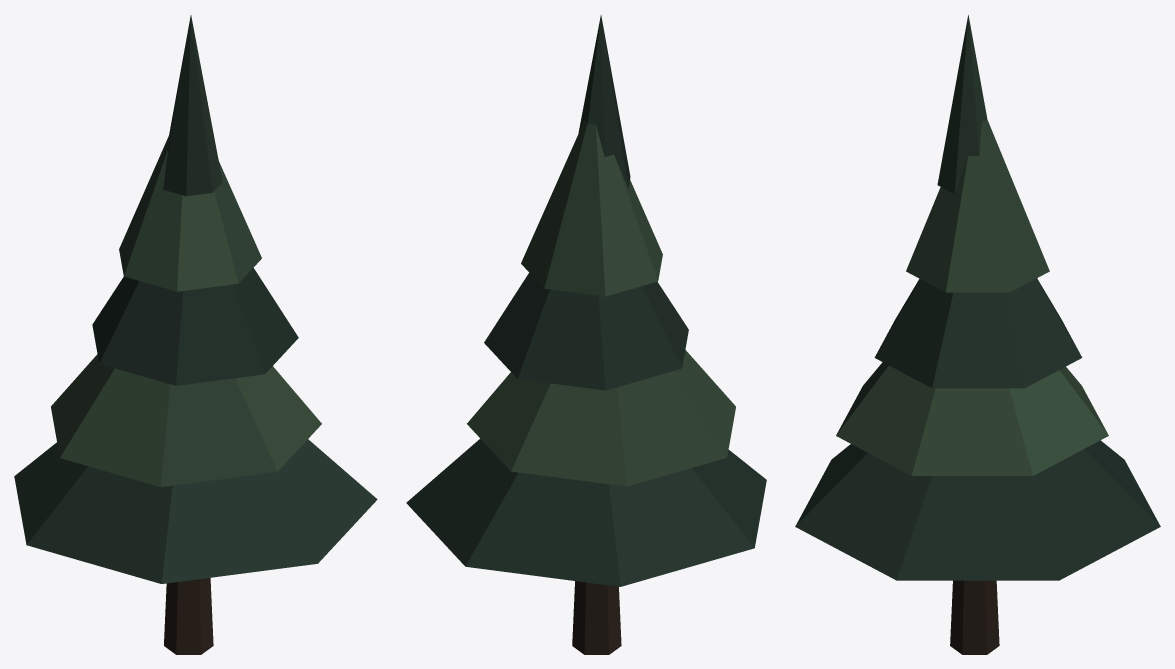
Rendered from pine_b.glb.
3 renders of one model, left to right at view 1: azimuth 30°, elevation 25°; view 2: azimuth 150°, elevation 25°; view 3: azimuth 270°, elevation 25°, orthographic.
Parts seen in each view (by area): view 1: pine_b; view 2: pine_b; view 3: pine_b.
Boxes of the visible parts, <box> form: pine_b: <box>14,15,377,654</box>; pine_b: <box>406,15,766,654</box>; pine_b: <box>795,15,1160,654</box>.
Size of the model in its own units: 3.75 by 7.32 by 3.84.
1 material, 1 textured.
